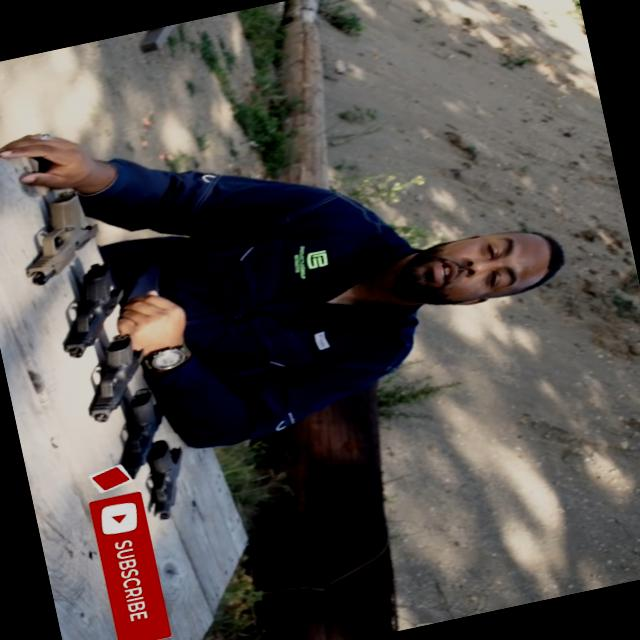handgun: (17, 248, 146, 380), (68, 384, 188, 492), (6, 180, 108, 301), (58, 330, 166, 432), (134, 432, 206, 533)
